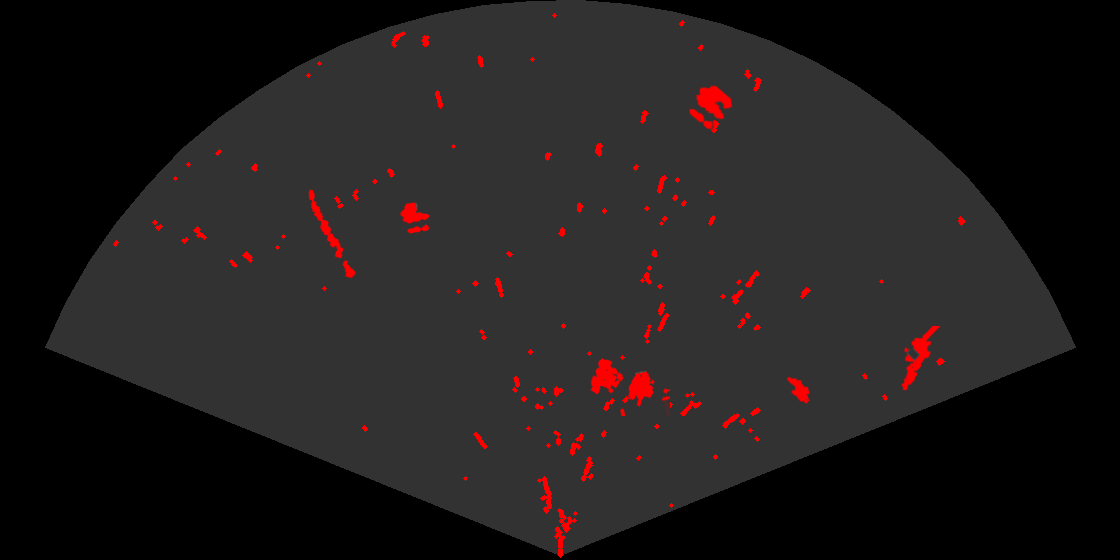AUV: (785, 375, 812, 405)
ball: (687, 84, 734, 131), (399, 201, 431, 235)
cage: (589, 357, 670, 416)
chain: (307, 188, 357, 280)
frogman: (900, 326, 942, 392)
